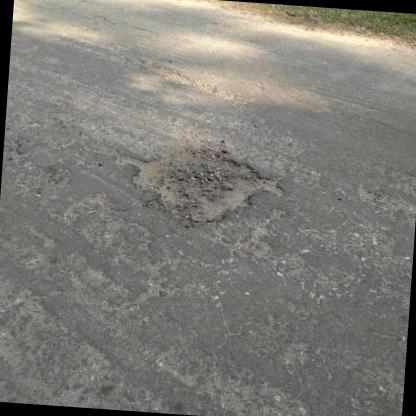pothole: (109, 140, 289, 230)
